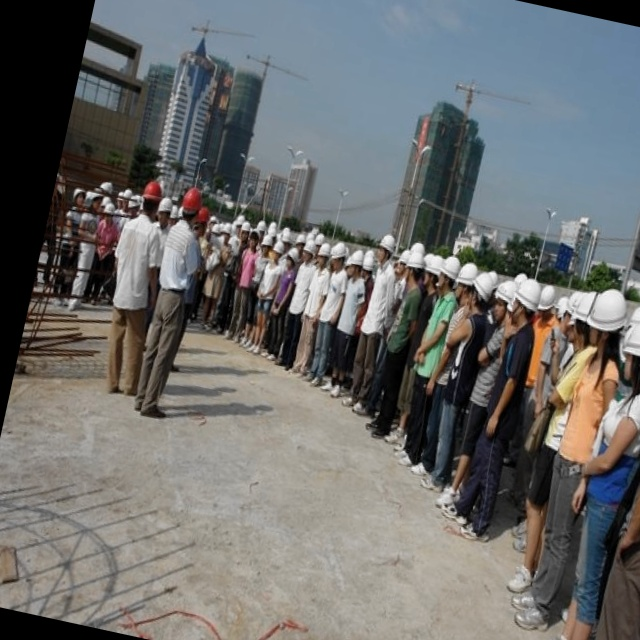Con_Casco: (179, 186, 205, 226), (139, 180, 165, 218), (376, 233, 397, 266)
